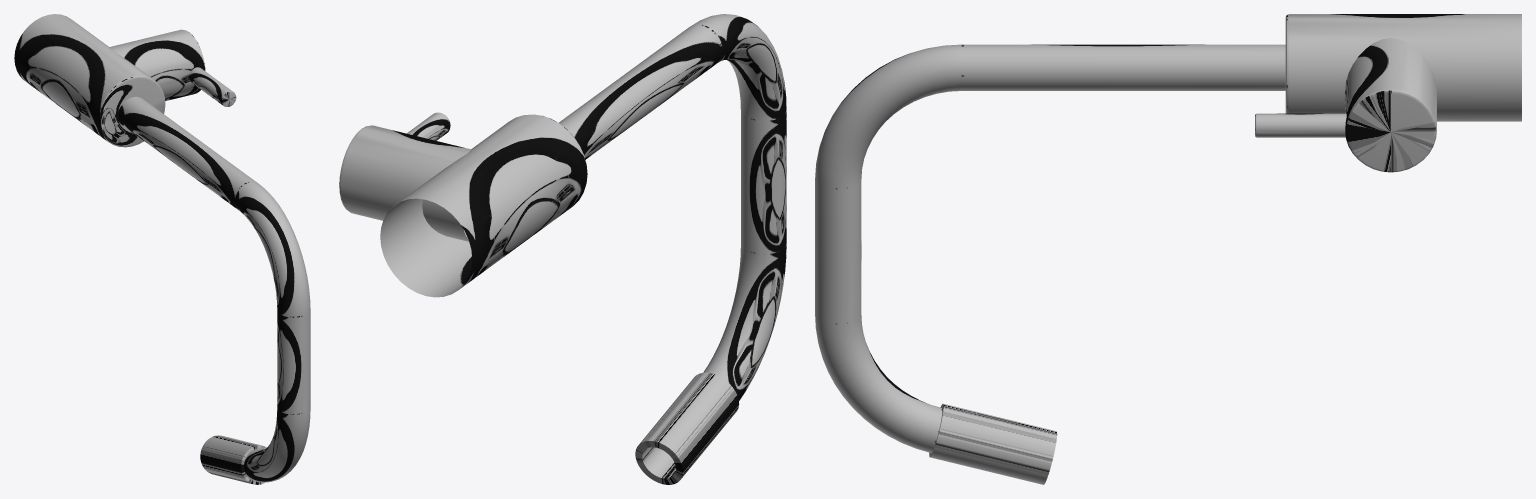
File: Tap.obj
3 renders of one model, left to right at view 1: azimuth 30°, elevation 25°; view 2: azimuth 150°, elevation 25°; view 3: azimuth 270°, elevation 25°, orthographic. The views are drawn at different scales.
Size of the model in its own units: 0.1013 by 0.2512 by 0.3473.
